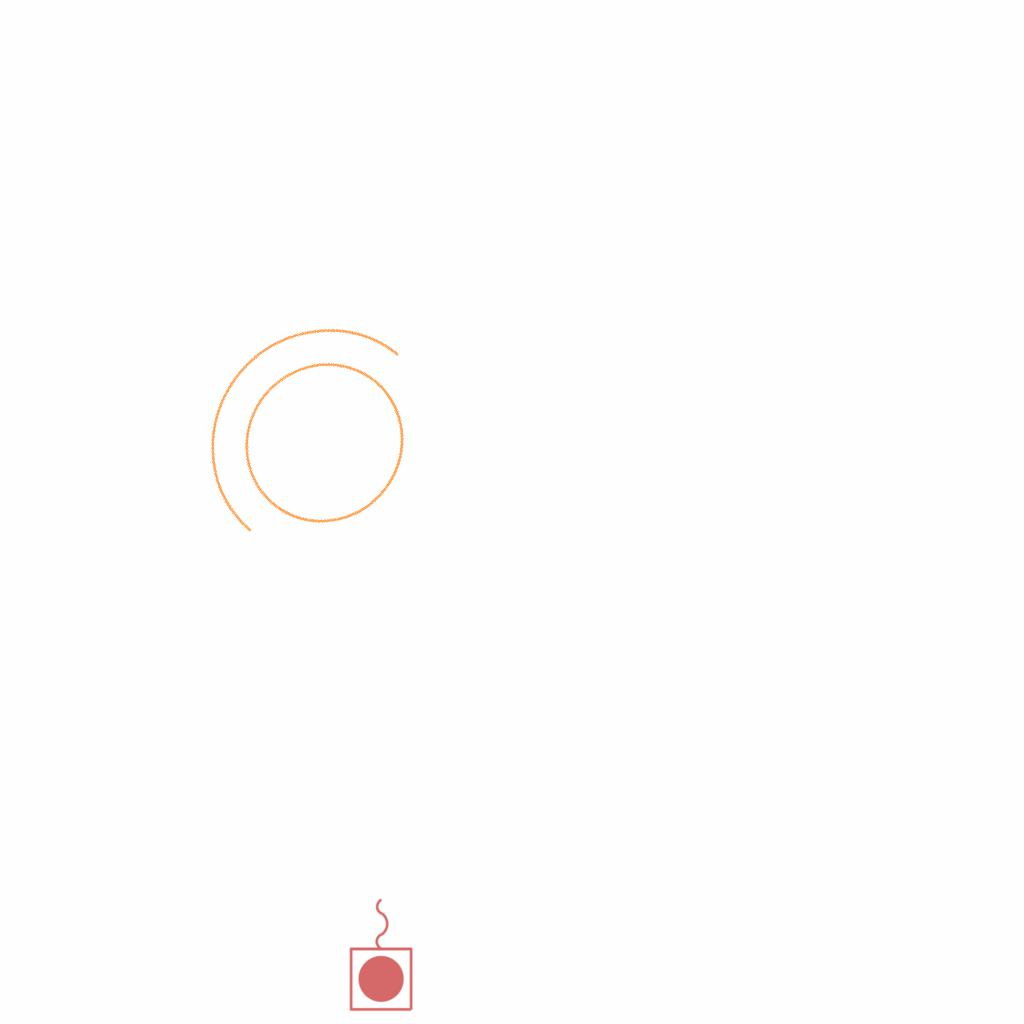Scheinwerfer_fuer_Alarmbeleuchtung: (141, 268, 485, 615)
Zugtaster: (346, 893, 418, 1015)
